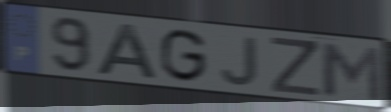9: (48, 15, 93, 74)
A: (94, 21, 161, 82)
G: (159, 27, 209, 84)
J: (218, 35, 260, 88)
M: (317, 40, 384, 104)
Z: (269, 35, 322, 98)
